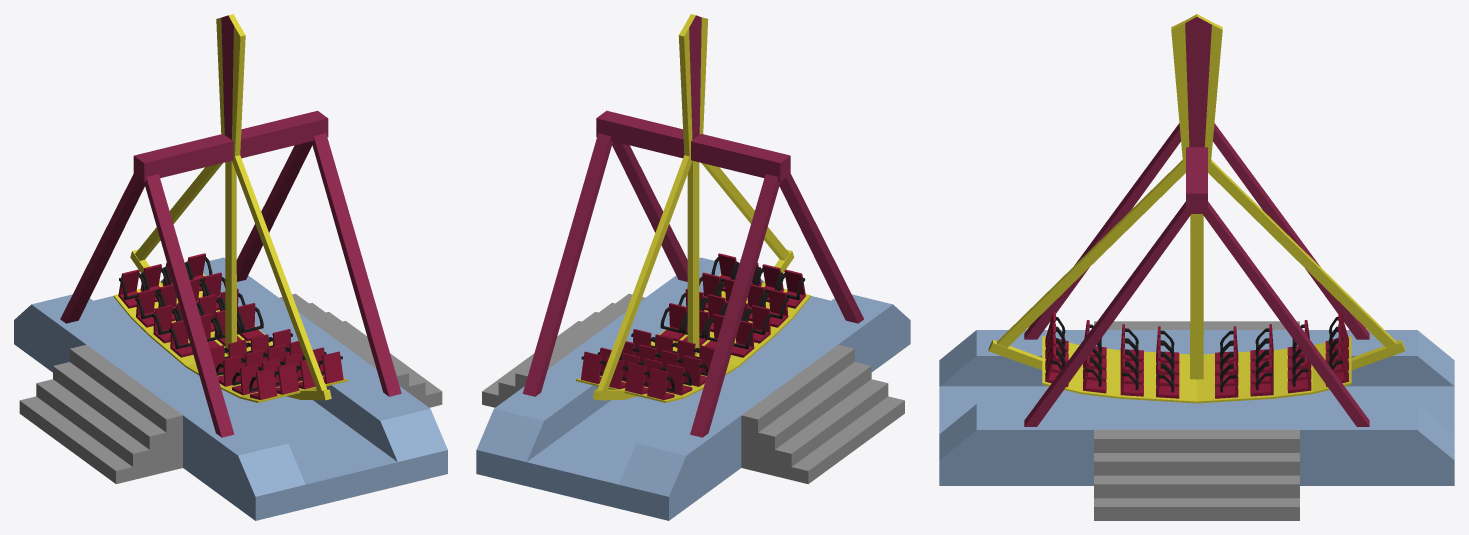
File: Attraction01.fbx
3 renders of one model, left to right at view 1: azimuth 30°, elevation 25°; view 2: azimuth 150°, elevation 25°; view 3: azimuth 270°, elevation 25°, orthographic. The views are drawn at different scales.
Visible parts, largest first — view 1: Attraction01; view 2: Attraction01; view 3: Attraction01.
Part boxes in pixels (x1=…): Attraction01: x1=14, y1=14, x2=447, y2=520; Attraction01: x1=476, y1=14, x2=910, y2=520; Attraction01: x1=939, y1=14, x2=1454, y2=520.
Bounding box in the file's own units: 780 × 901 × 1000.
